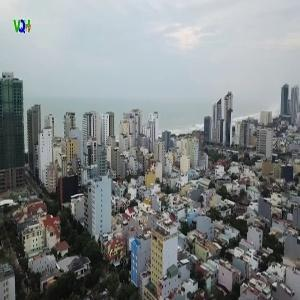drone: (245, 171, 281, 207)
